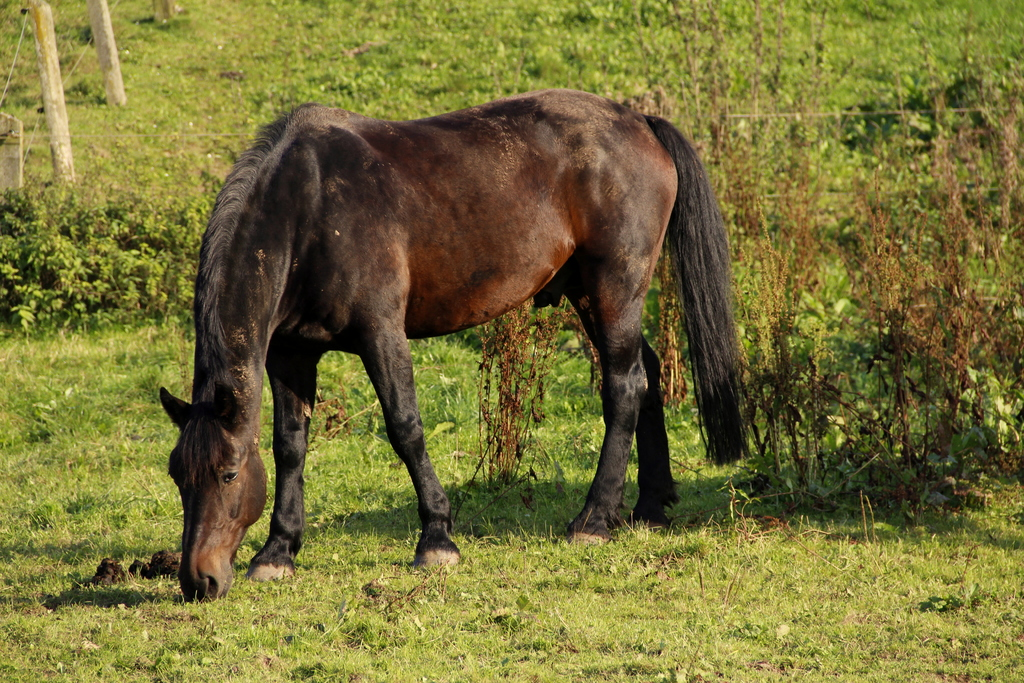horse: (162, 89, 752, 604)
